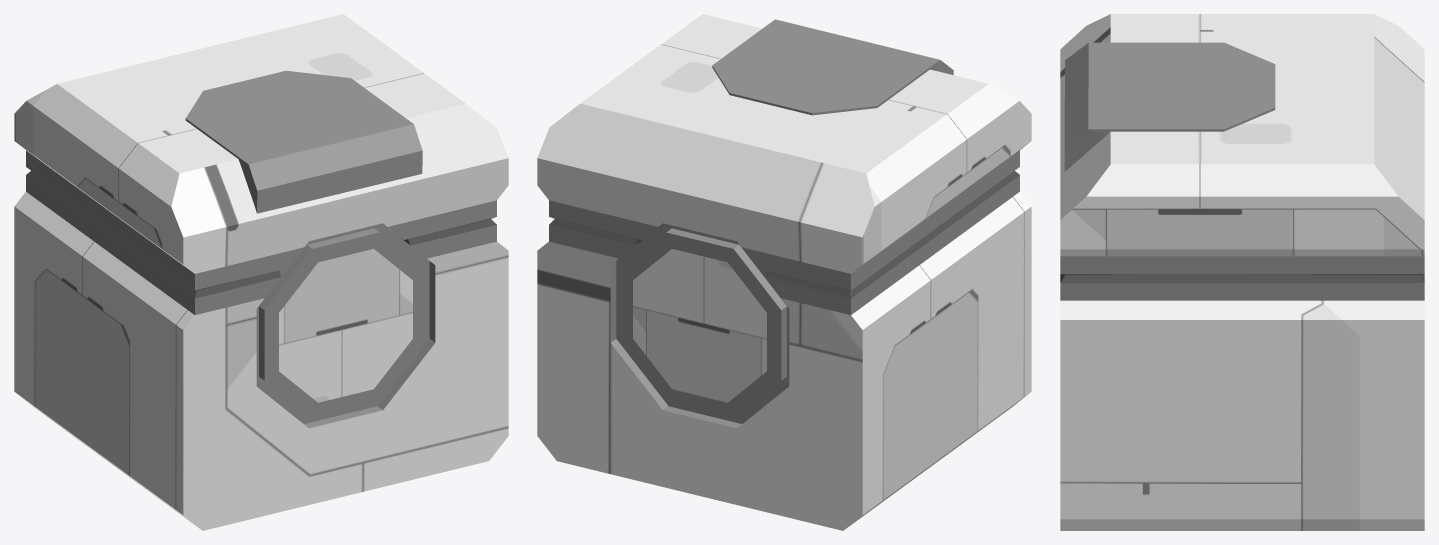
The model's file is SM_Container_Medium_Box_1.fbx.
The picture shows the model from 3 angles, left to right: view 1: azimuth 30°, elevation 25°; view 2: azimuth 150°, elevation 25°; view 3: azimuth 270°, elevation 25°; orthographic projection. The views are drawn at different scales.
Visible parts, largest first — view 1: SM_Container_Medium_Box_1; view 2: SM_Container_Medium_Box_1; view 3: SM_Container_Medium_Box_1.
Part boxes in pixels (left/top/right/bottom): SM_Container_Medium_Box_1: left=14, top=14, right=508, bottom=530; SM_Container_Medium_Box_1: left=537, top=14, right=1031, bottom=530; SM_Container_Medium_Box_1: left=1060, top=14, right=1424, bottom=530.
Bounding box in the file's own units: 80 × 80.52 × 72.
